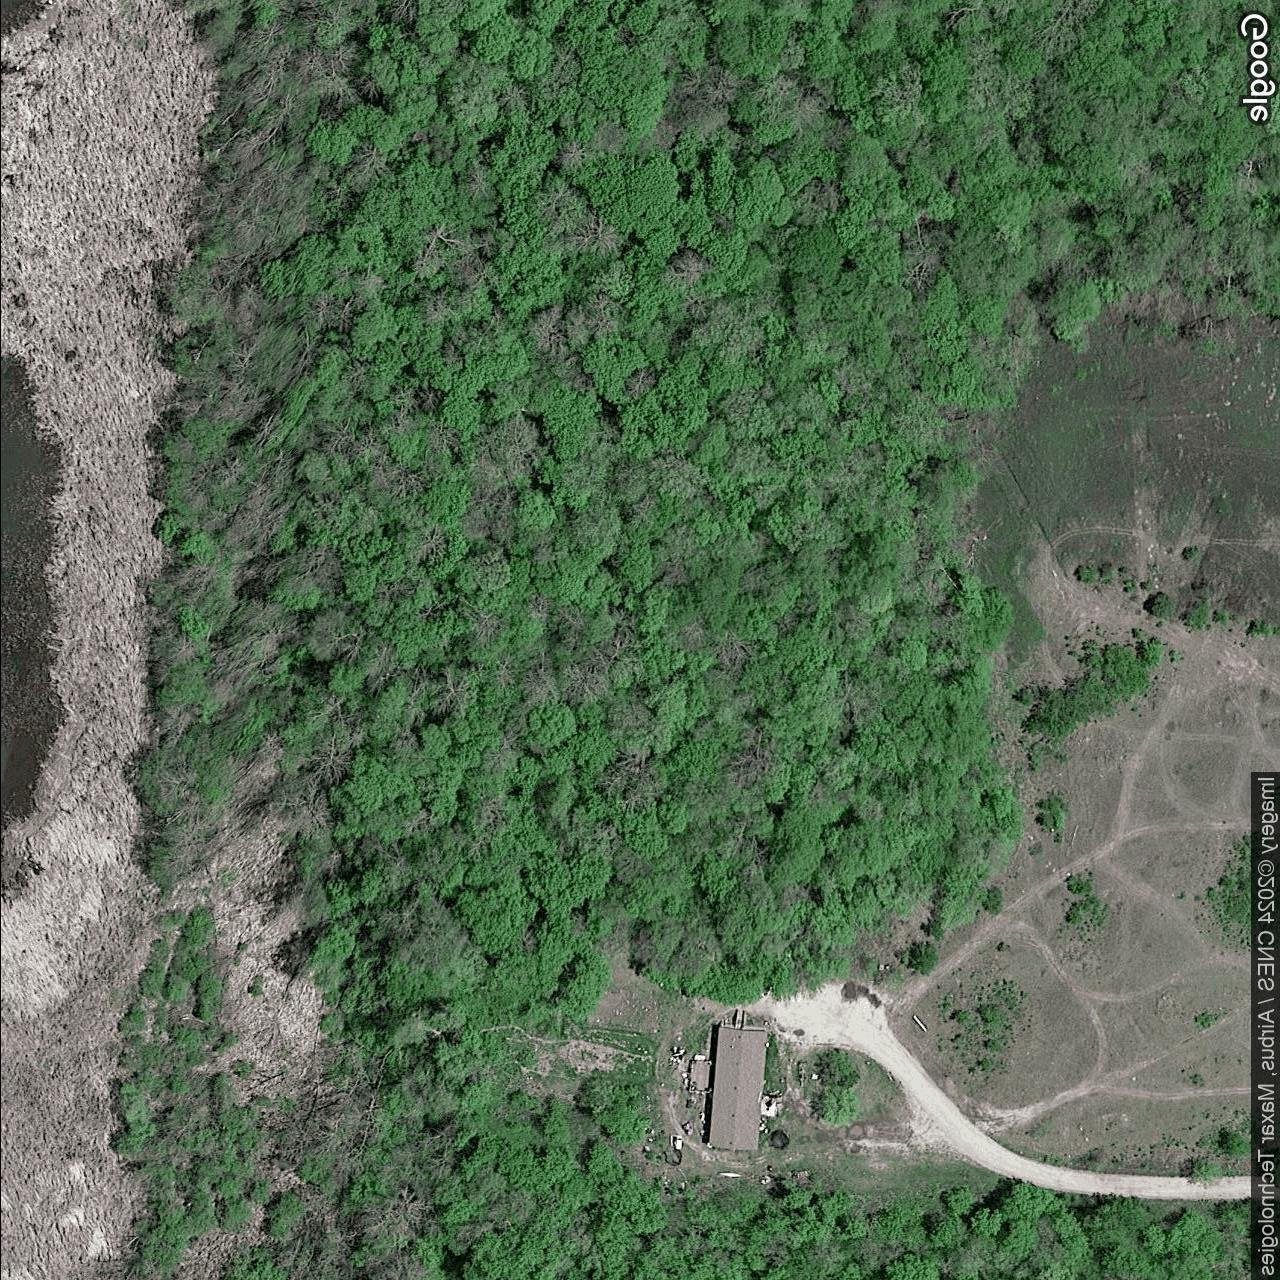House: (708, 1026, 768, 1151)
Propane: (693, 1054, 706, 1061)
